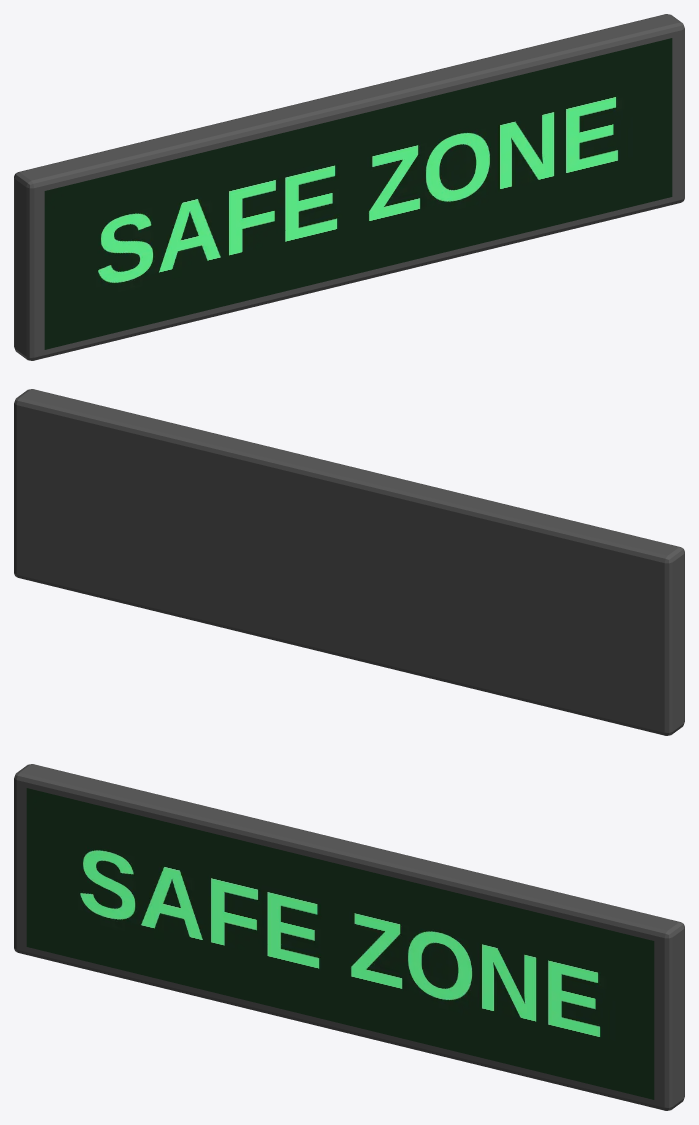
File: safe_sign.glb
3 views of the same model, one above another, from view 1: azimuth 30°, elevation 25°; view 2: azimuth 150°, elevation 25°; view 3: azimuth 330°, elevation 25° (orthographic).
Visible parts, largest first — view 1: SafeSign; view 2: SafeSign; view 3: SafeSign.
Part boxes in pixels (x1,y1,x2,y2): SafeSign: (14,14,684,360); SafeSign: (14,389,684,735); SafeSign: (14,764,684,1110).
Size of the model in its own units: 1.3 by 0.34 by 0.0605.
Materials: 2 (1 with a texture image).
